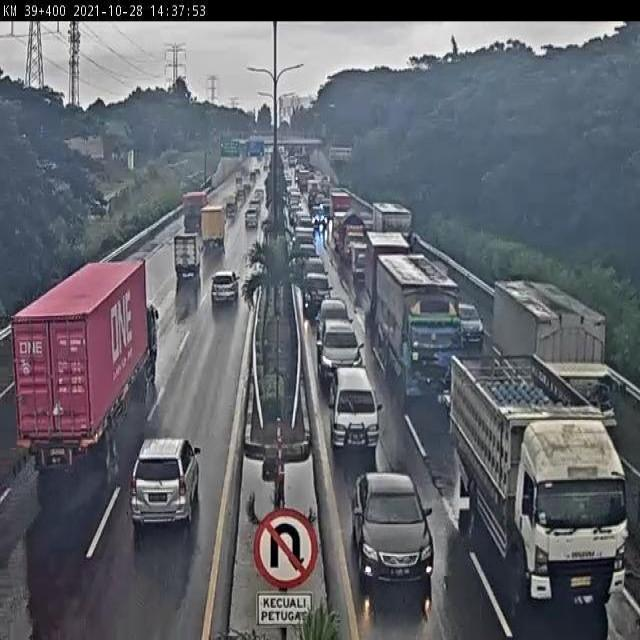car: (173, 231, 206, 277)
truck-l-: (451, 357, 625, 607), (494, 279, 617, 445), (374, 256, 466, 408), (182, 190, 211, 230)
truck-s-: (201, 209, 225, 252)
truck-xl-: (15, 263, 159, 472)
